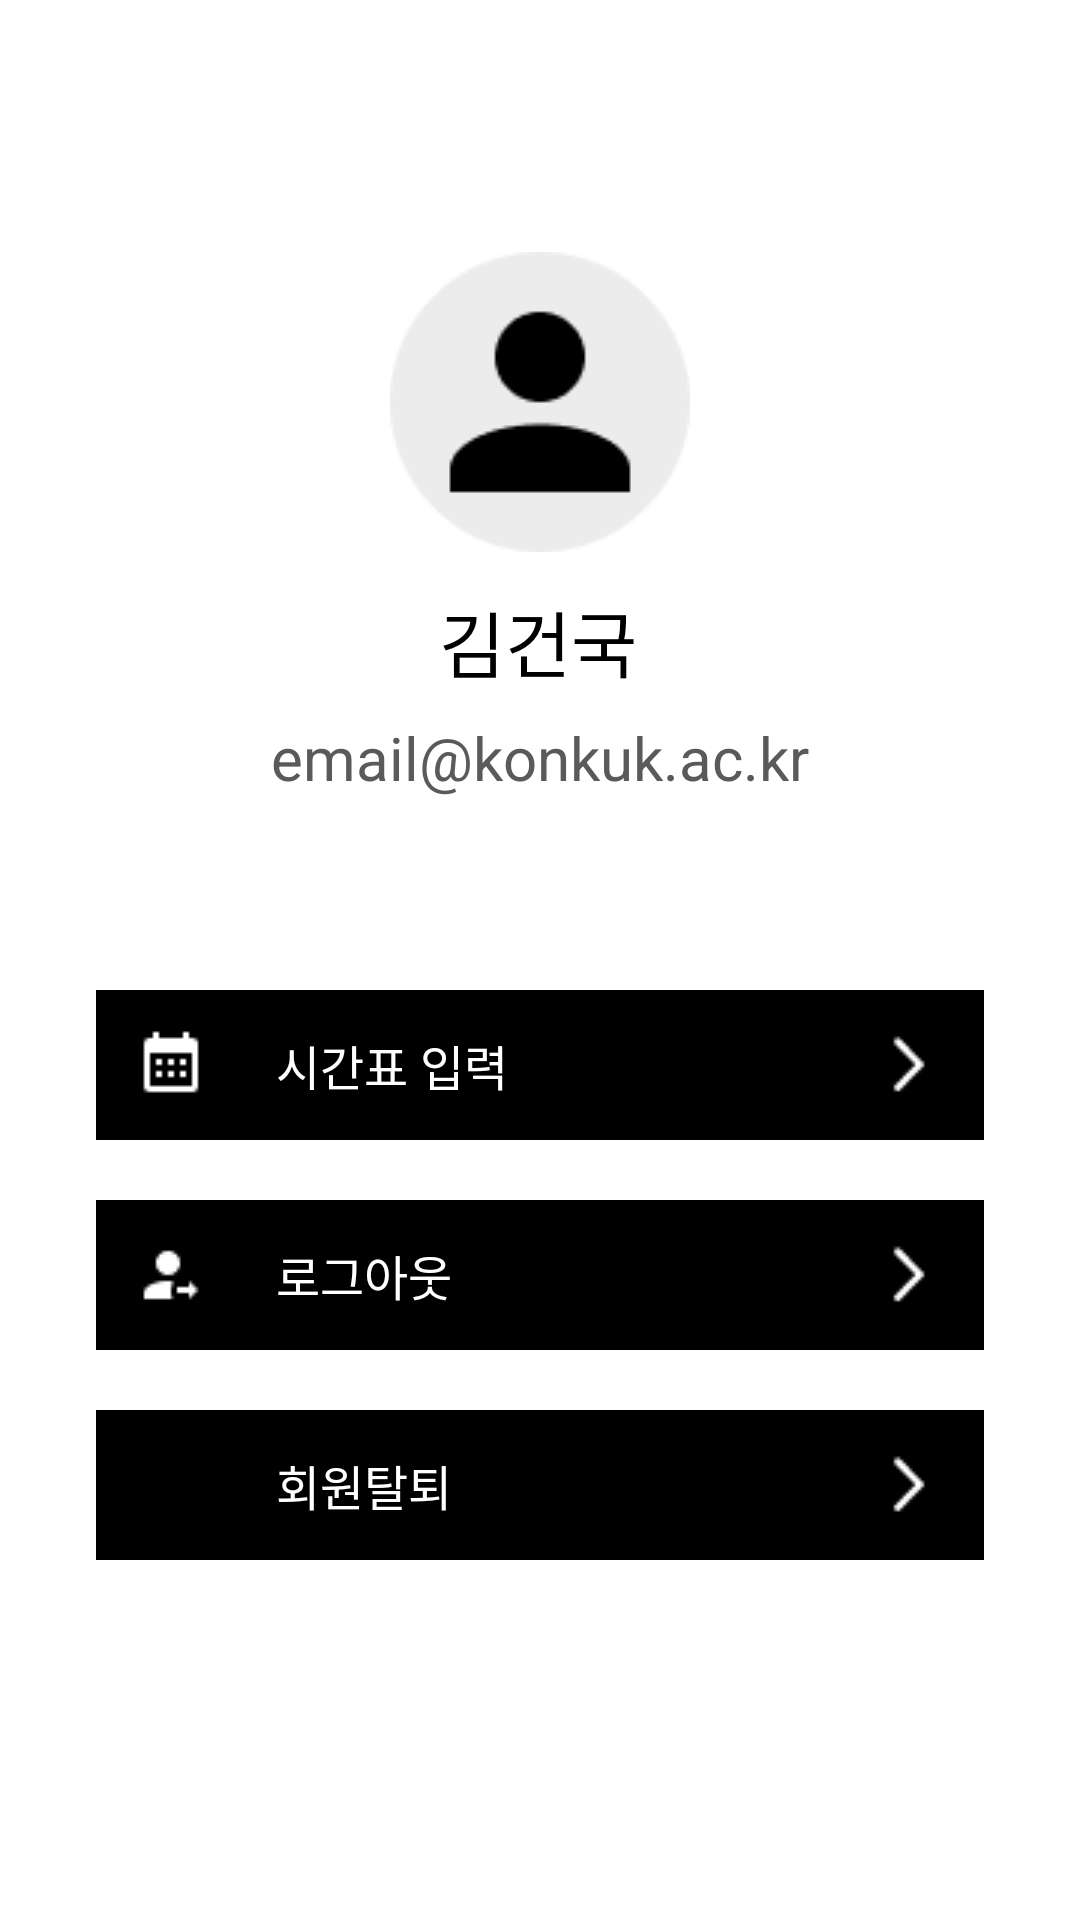

Point at icon controls on the screen. Image size 1080 x 1920, points as (x=x, y=y).
arrow: (x=909, y=1064), (x=909, y=1274), (x=909, y=1484)
profile: (x=540, y=402)
timetable: (x=171, y=1062)
